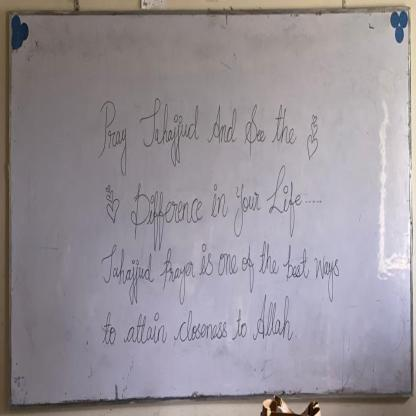Handwritten text: (70, 293, 303, 358), (96, 90, 295, 164), (91, 237, 342, 295), (128, 166, 301, 238)
Whiteboard: (8, 12, 414, 392)
